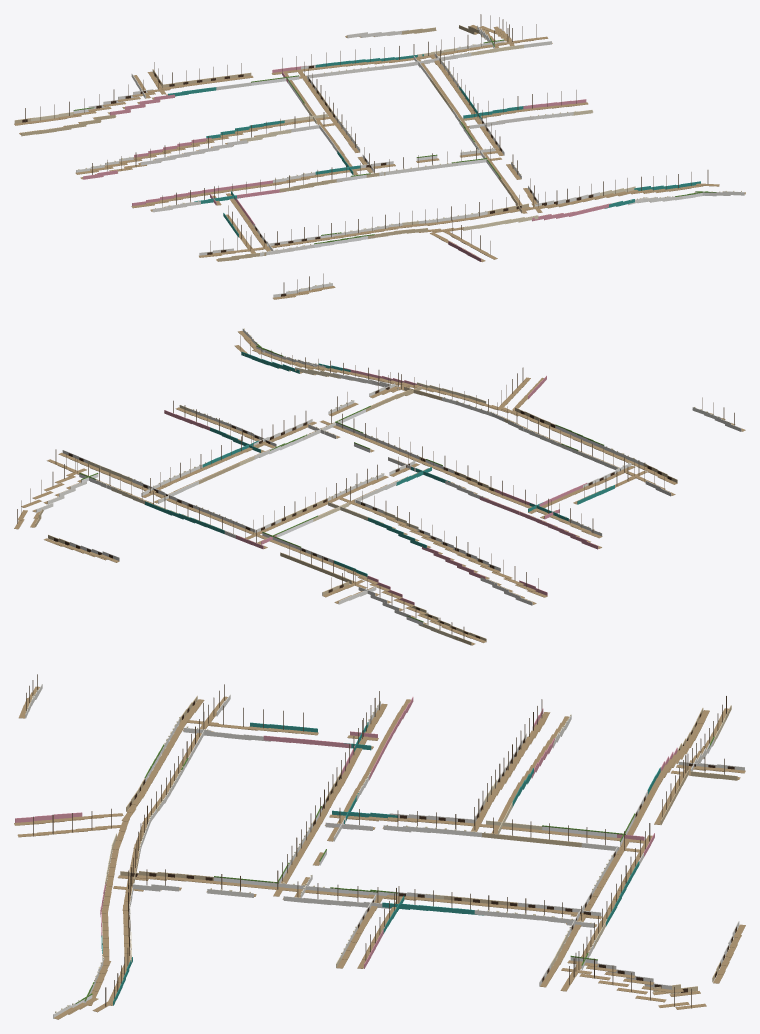
File: noord_res_-28_-22.glb
The picture shows the model from 3 angles, top to bottom: view 1: azimuth 30°, elevation 25°; view 2: azimuth 150°, elevation 25°; view 3: azimuth 270°, elevation 25°; orthographic projection. The views are drawn at different scales.
Parts seen in each view (by area): view 1: noord_res_-28_-22_lod0; view 2: noord_res_-28_-22_lod0; view 3: noord_res_-28_-22_lod0.
Part boxes in pixels (<box>): noord_res_-28_-22_lod0: <box>14,14,745,299</box>; noord_res_-28_-22_lod0: <box>14,328,745,645</box>; noord_res_-28_-22_lod0: <box>14,674,745,1019</box>.
Size of what is drawn, in the model's own units: 287 by 22.67 by 283.
